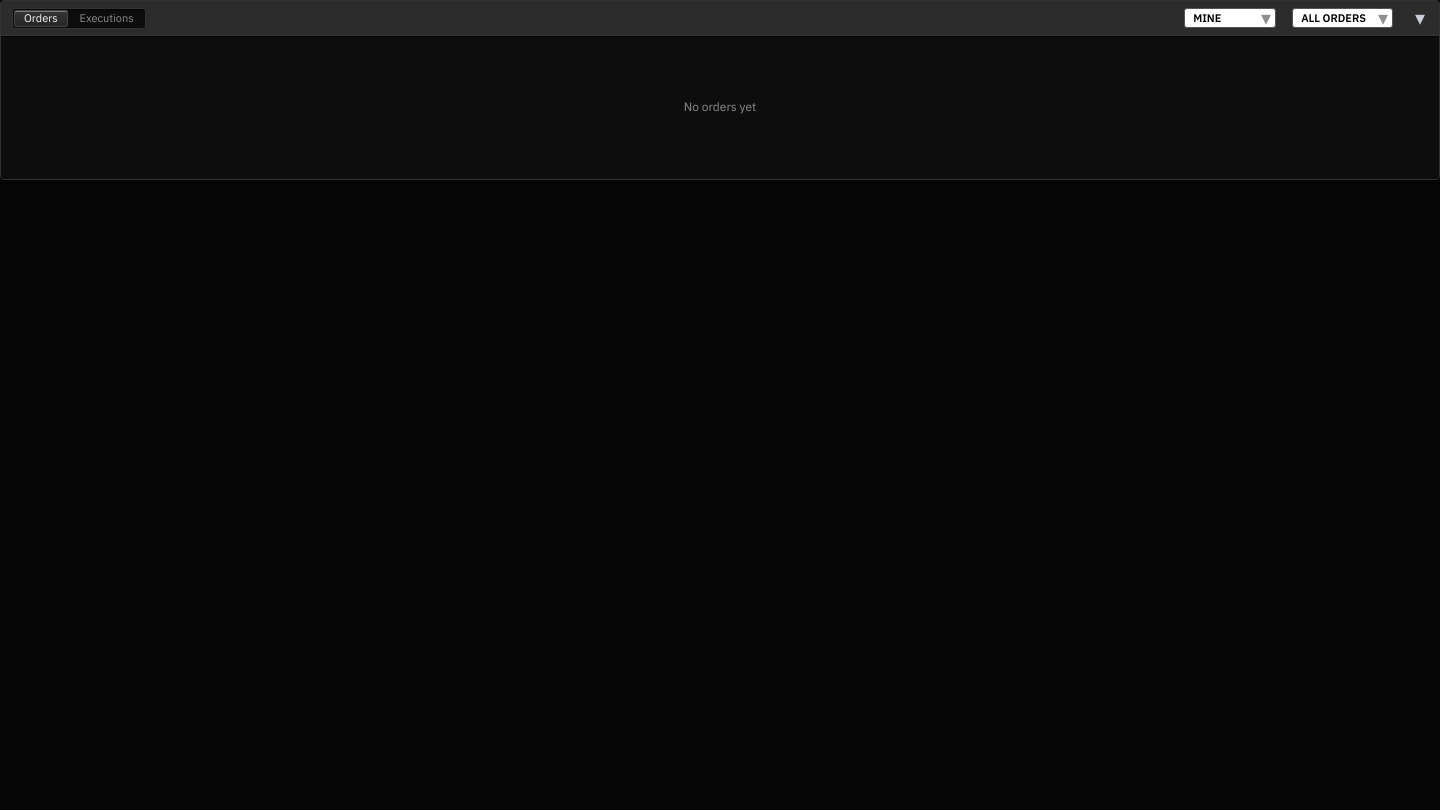
Test: §9 panel caret menus use the shared white list › blotter cancel menu: shared classes, CANCEL BY ID by CSS, behaviour unchanged
Step 1. Click the button with test id "blotter-menu-btn" → (1420, 18), box x1=1409 y1=7 x2=1431 y2=29
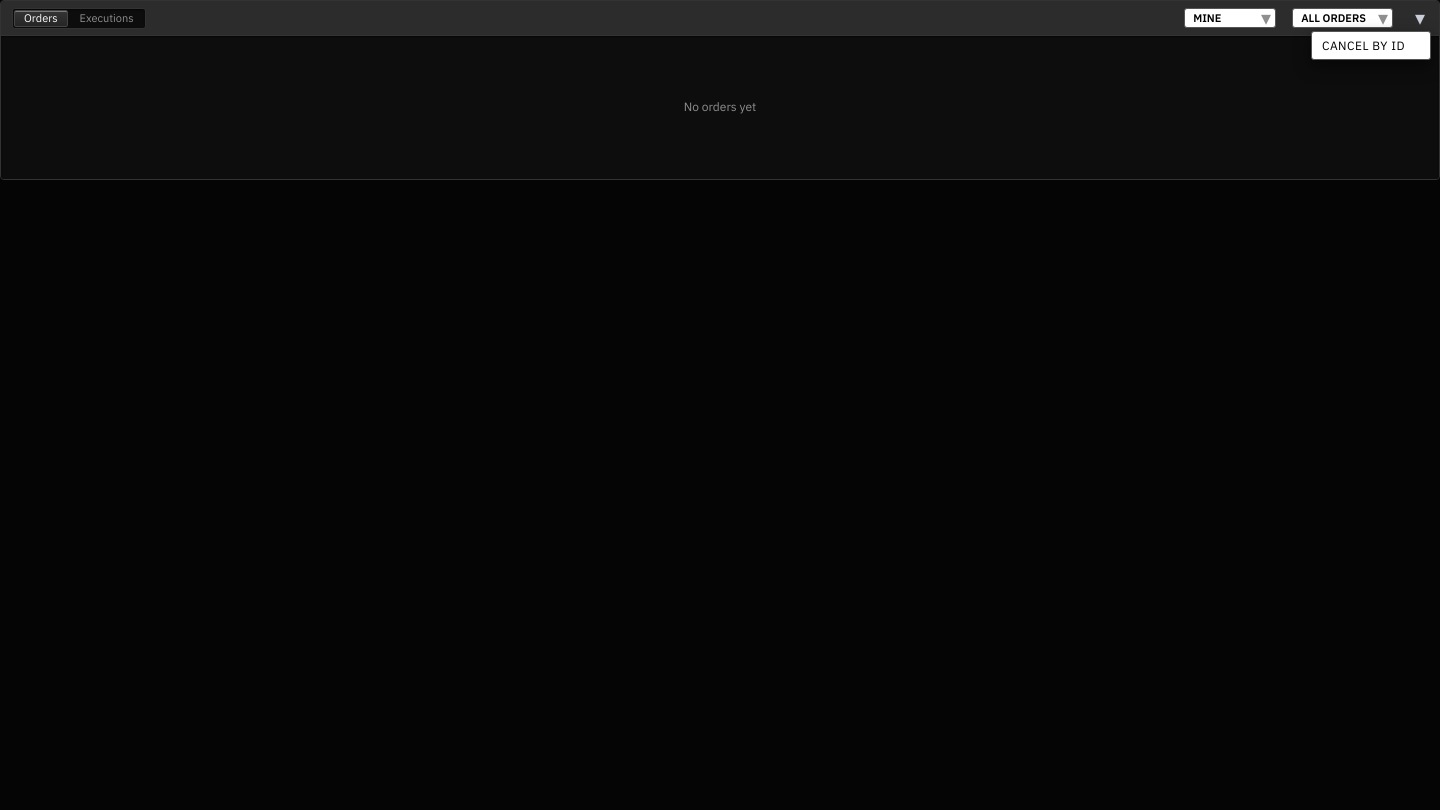
Expected: the menu item with test id "cancel-by-id-open" reads "Cancel by ID"
Step 2. Click the menu item with test id "cancel-by-id-open" → (1371, 46), box x1=1314 y1=34 x2=1428 y2=57
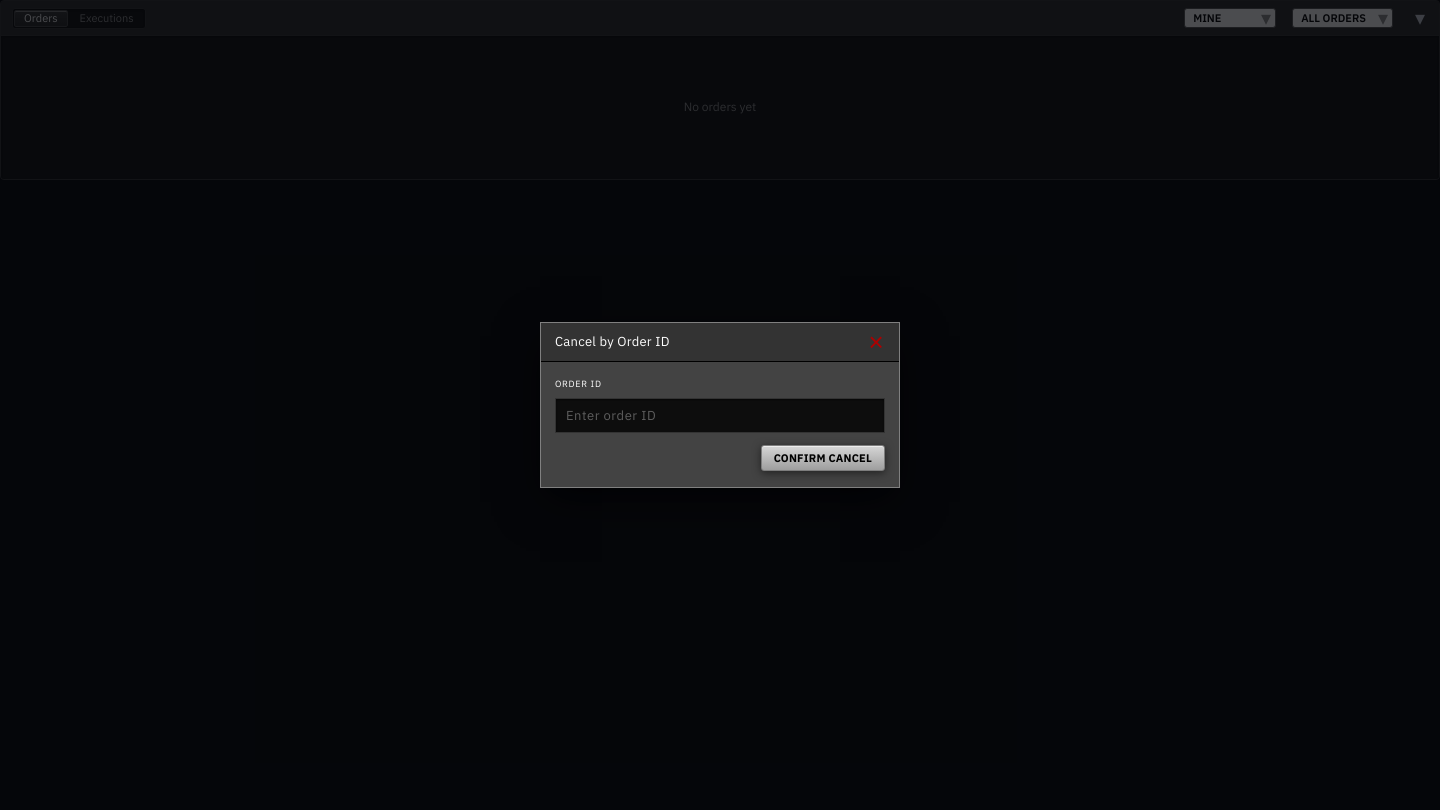
Expected: the element with test id "cancel-by-id-overlay" is shown
